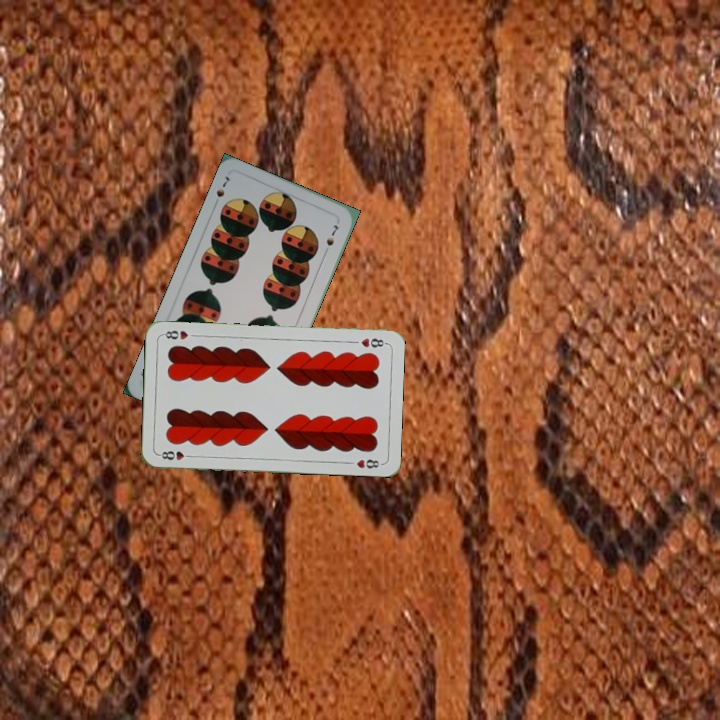H8: (155, 447, 196, 462), (357, 334, 389, 350)
S7: (212, 172, 233, 200)
